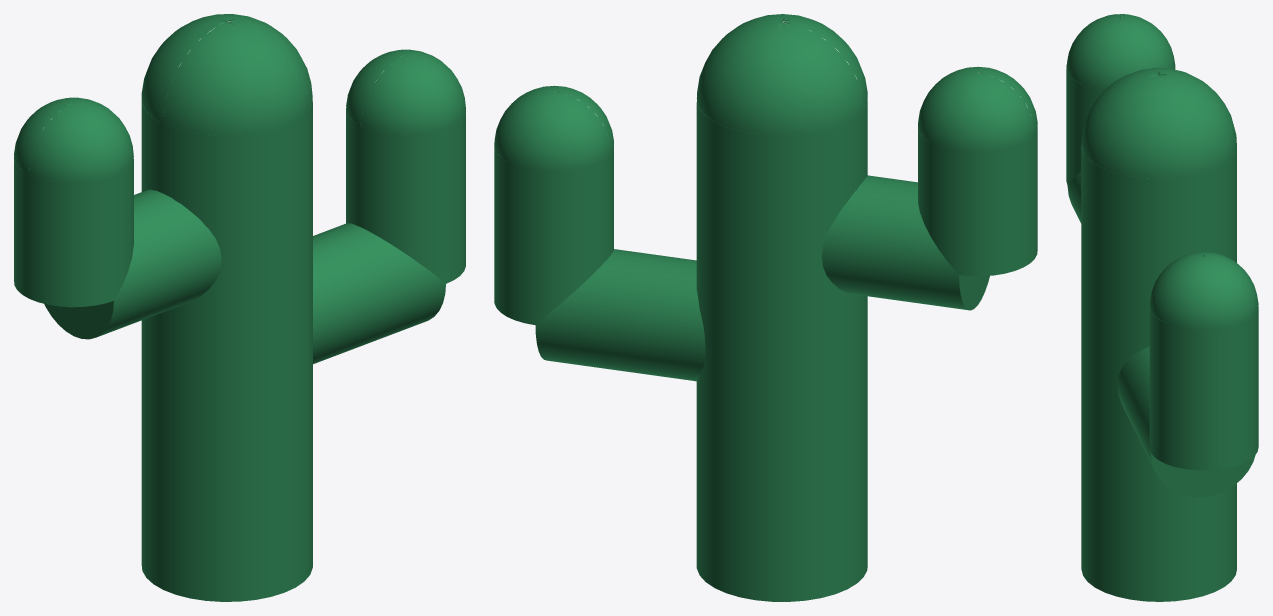
Rendered from cactus.glb.
3 views of the same model, side by side, from view 1: azimuth 30°, elevation 25°; view 2: azimuth 150°, elevation 25°; view 3: azimuth 270°, elevation 25° (orthographic). The views are drawn at different scales.
Bounding box in the file's own units: 3.24 × 3.5 × 1.23.
